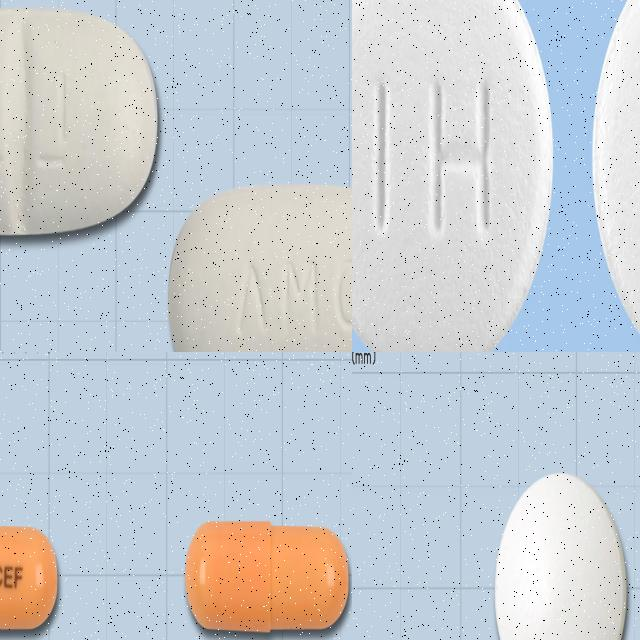Amocla Duo500mg: (0, 3, 160, 241), (166, 182, 352, 352)
Cefixime Cap- Samsung: (181, 512, 352, 638), (0, 514, 63, 640)
Ciprofloxacin Tab- Mirae: (492, 463, 630, 640)
Ciroxacin: (352, 0, 558, 352)
